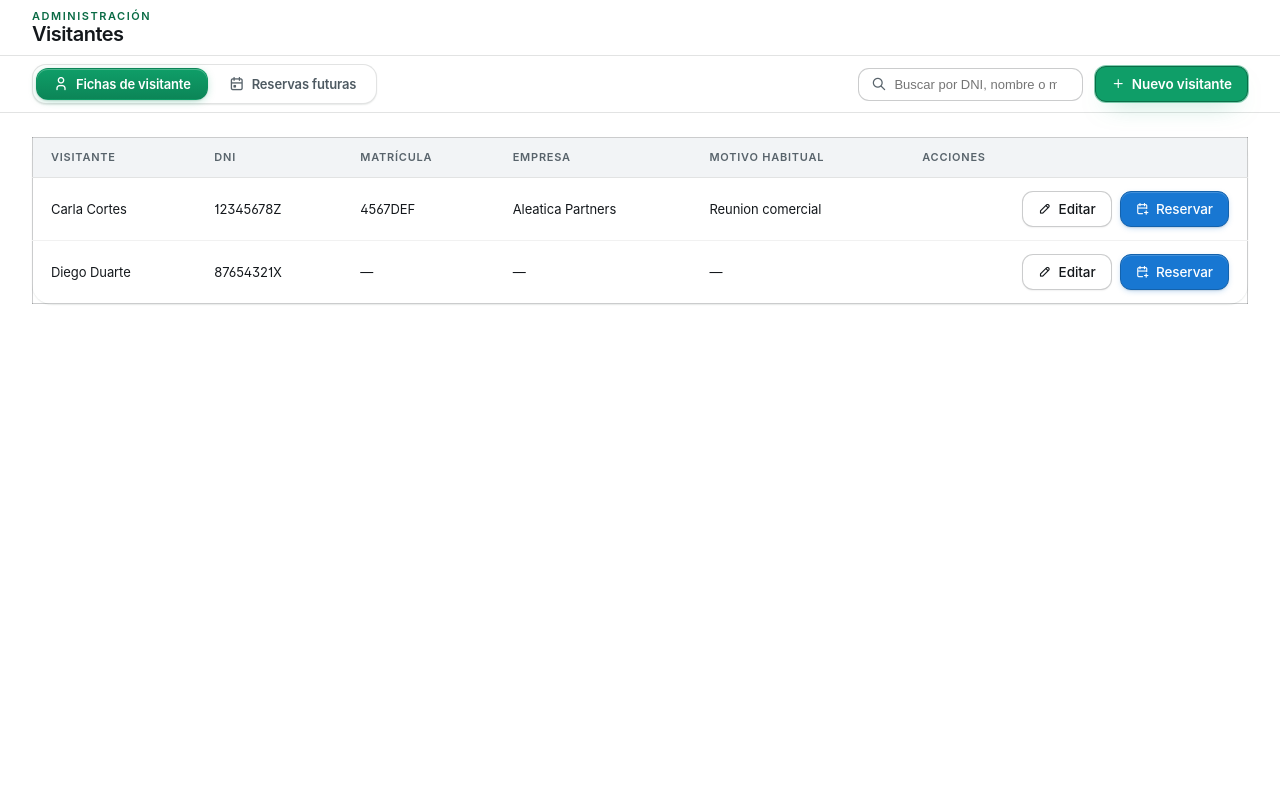
Test case: VisitorsPage (ADMIN) › should_open_create_form_when_clicking_new_visitor
This screenshot has width=1280, height=800.
Expected: the text "Carla Cortes" is shown, [32,178,196,240]
What coordinates should you click on to do the following:
click the button "Nuevo visitante"
I would click on:
 (1172, 84)
Its box is [1095,66,1248,102].
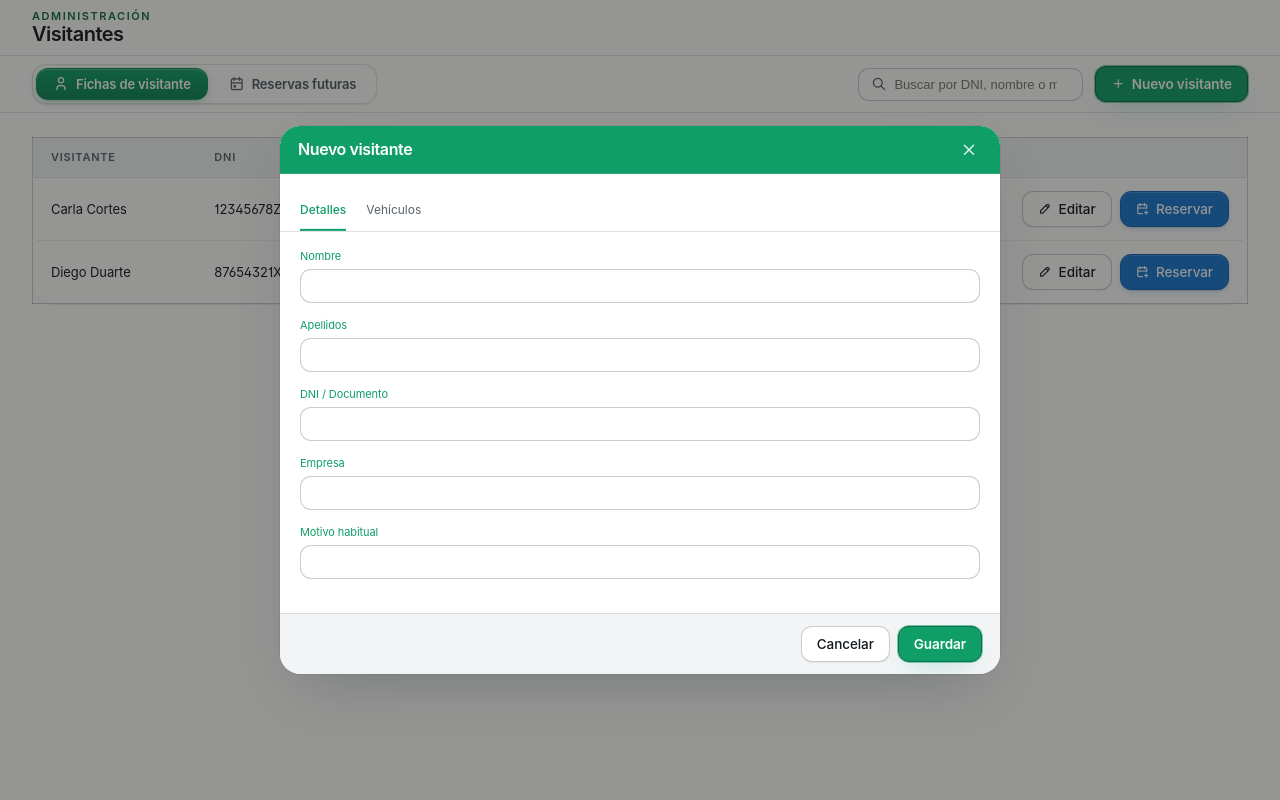
Now the heading "Nuevo visitante" is shown, box [298,141,412,159]
